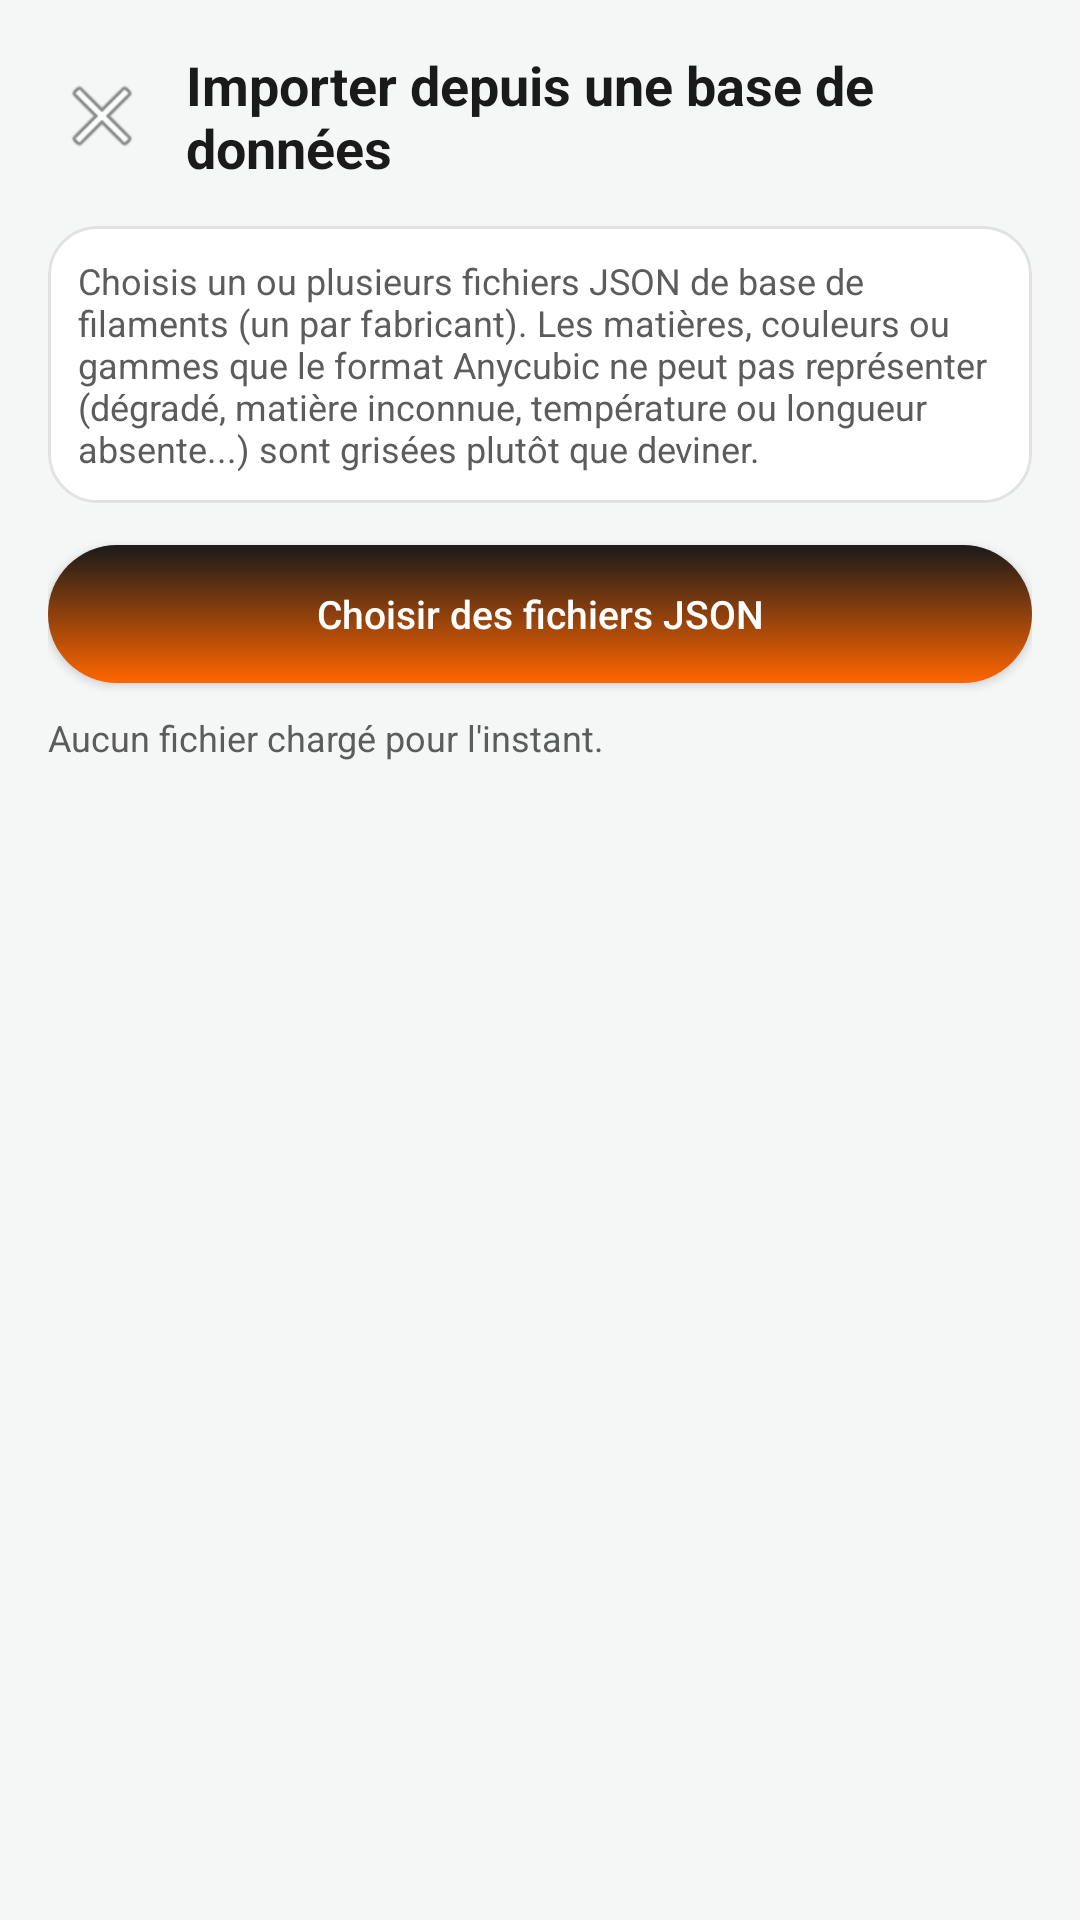

Screen size 1080w x 1920h. Icon name, then its center in pixels as (x,y):
Retour: (102,116)
